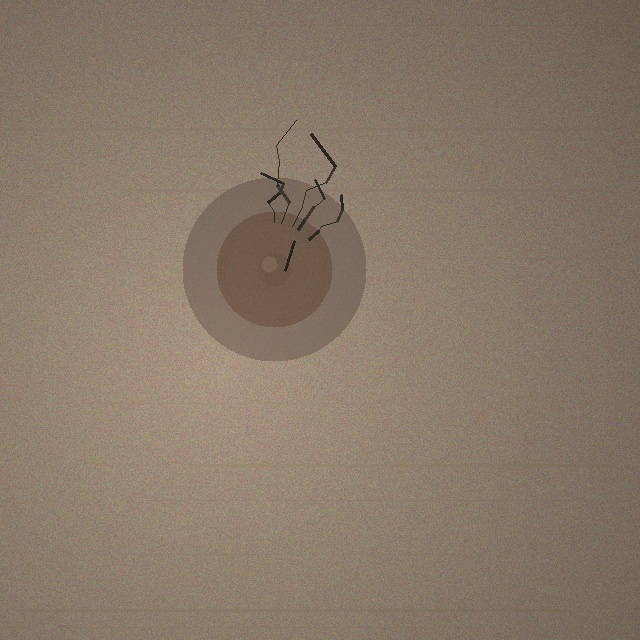crack: (182, 177, 366, 361)
